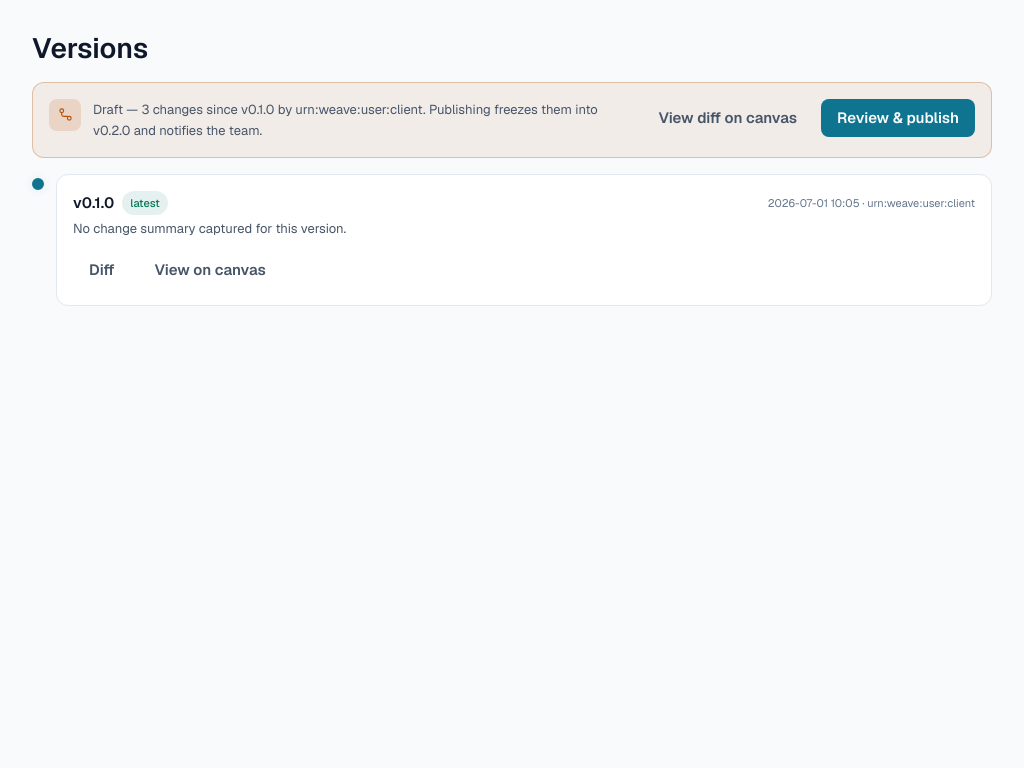
Test: CeVersionsPage › opens the publish drawer with the diff and a real Rules preflight row
Step 1. Click the button "Review & publish" → [898, 118], box [821,99,975,137]
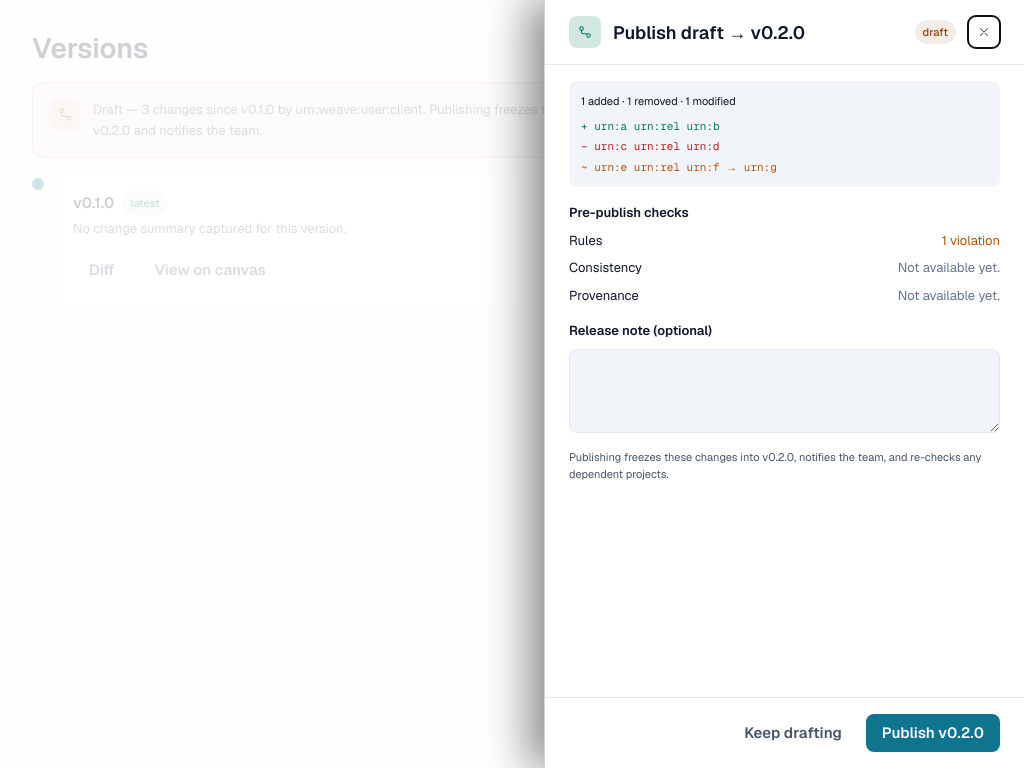
Check: the heading "Publish draft → v0.2.0" is shown, box [613,20,805,44]
Check: the text "Consistency" is shown, box [569,258,642,278]
Check: the text "Provenance" is shown, box [569,286,639,305]
